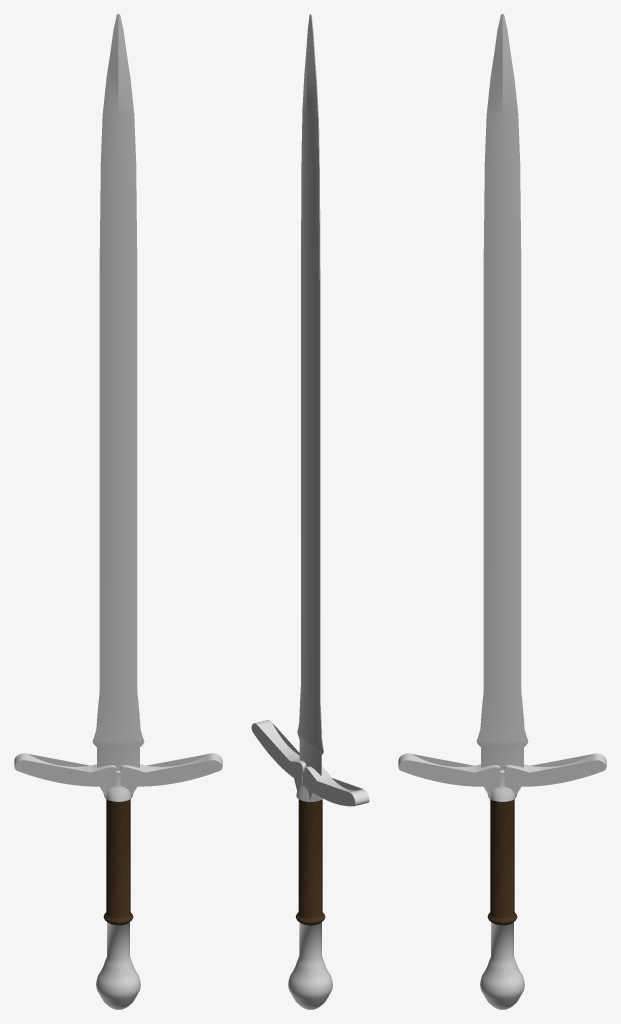
Rendered from Sword.fbx.
3 renders of one model, left to right at view 1: azimuth 90°, elevation 25°; view 2: azimuth 210°, elevation 25°; view 3: azimuth 270°, elevation 25°, orthographic.
Visible parts, largest first — view 1: Plane, Cylinder, BezierCurve; view 2: Plane, Cylinder, BezierCurve; view 3: Plane, Cylinder, BezierCurve.
Boxes of the visible parts, <box> form: Plane: <box>92,14,144,770</box>; Cylinder: <box>96,770,140,1009</box>; BezierCurve: <box>14,753,222,800</box>; Plane: <box>297,14,323,775</box>; Cylinder: <box>288,770,332,1009</box>; BezierCurve: <box>251,720,369,806</box>; Plane: <box>476,14,528,770</box>; Cylinder: <box>480,770,524,1009</box>; BezierCurve: <box>398,753,606,800</box>.
Size of the model in its own units: 19.04 by 467 by 88.67.
